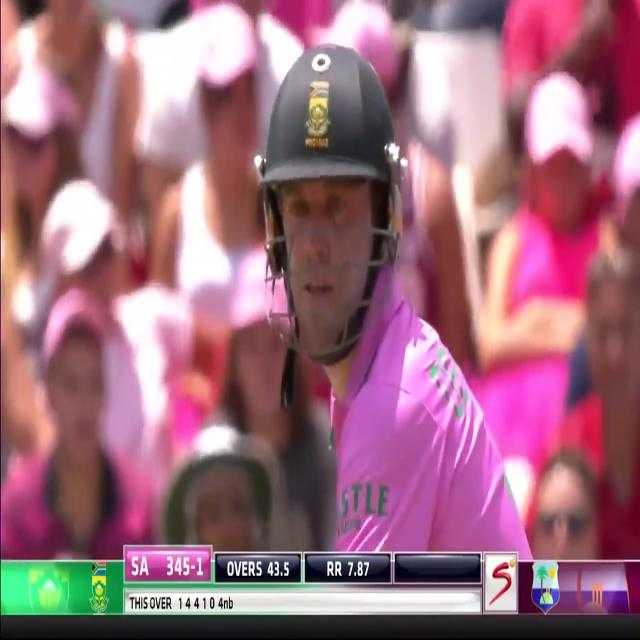Ball: (180, 38, 522, 554)
